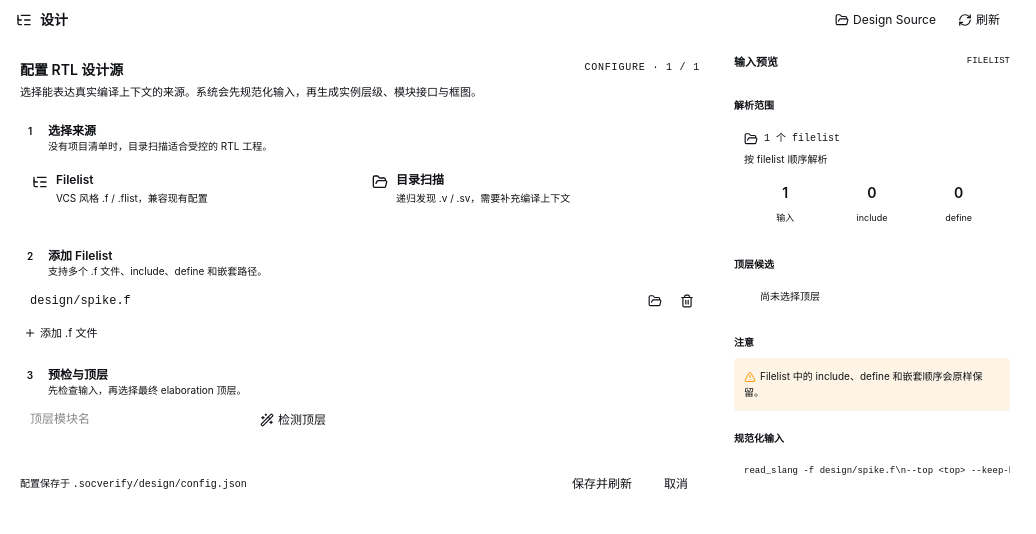
Test: DesignView 刷新失败呈现（不静默回退空页面） › 保存后刷新失败：reload 拿到持久化的 lastError，显示错误面板而非「尚未 elaboration」空提示
This screenshot has width=1036, height=534.
# 输入 top 后保存（保存即触发刷新）
Type "spike_top" into the field with test id "design-top-input" at point(132, 420), box [20, 406, 244, 434]
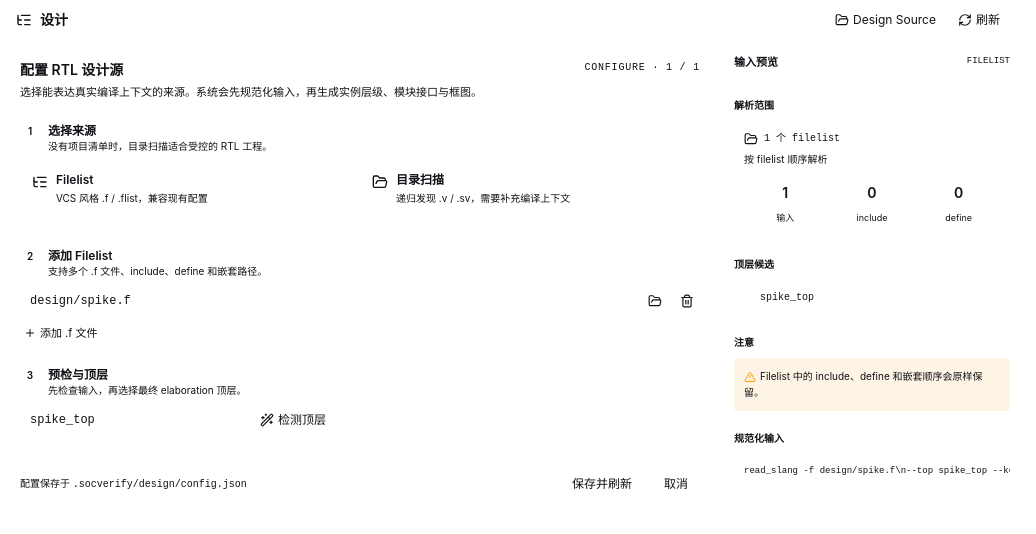
Click the button with test id "design-config-save" at point(602, 484), box [560, 470, 644, 498]
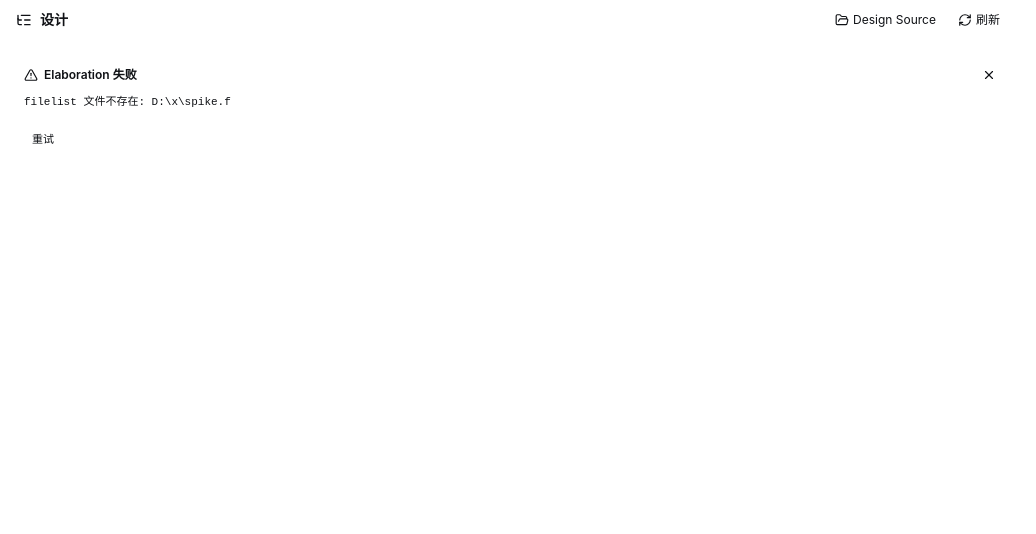
Now the element with test id "design-error-panel" shows "filelist 文件不存在", box [24, 96, 231, 108]
